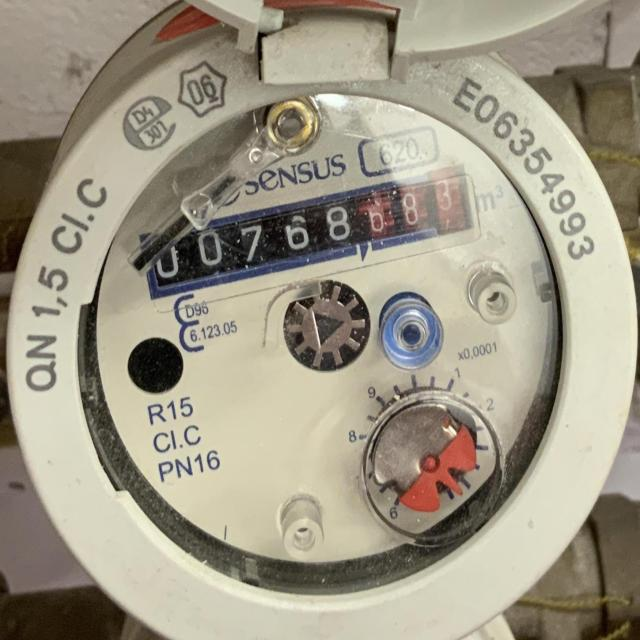gaz_meter: (6, 18, 640, 639)
indication: (135, 159, 481, 306)
